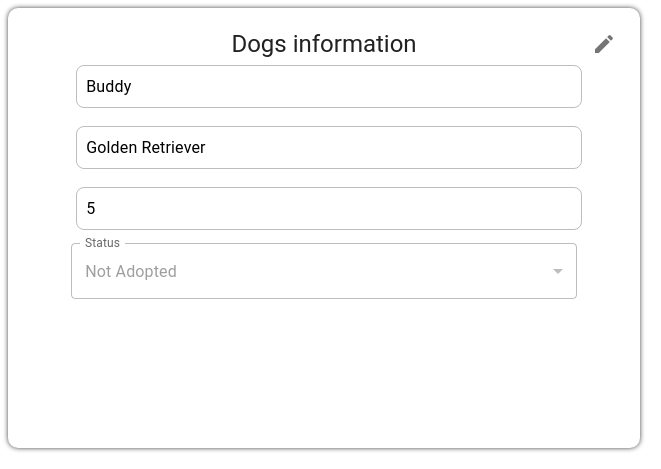
DogInfo.cy.tsx › Cancel Edit
The image size is (661, 469).
Click the button with id "editDogInfo": (604,44) x1=584 y1=24 x2=624 y2=64
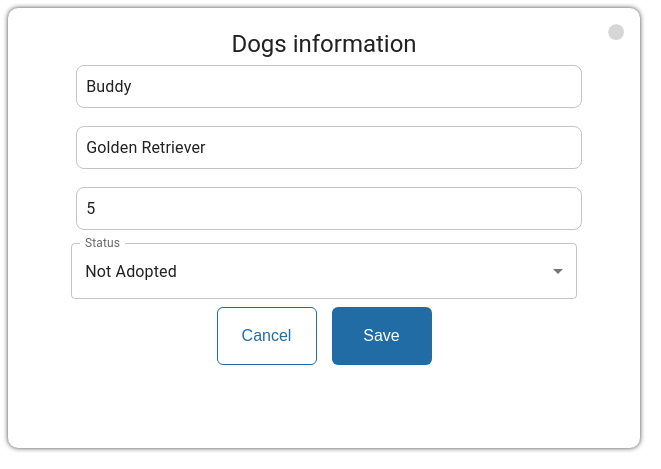
Replace the text in the field with id "DogName" with "Buddy2": (329,87) x1=81 y1=65 x2=577 y2=108
Replace the text in the field with id "Breed" with "Golden Retriever2": (329,148) x1=81 y1=126 x2=577 y2=169
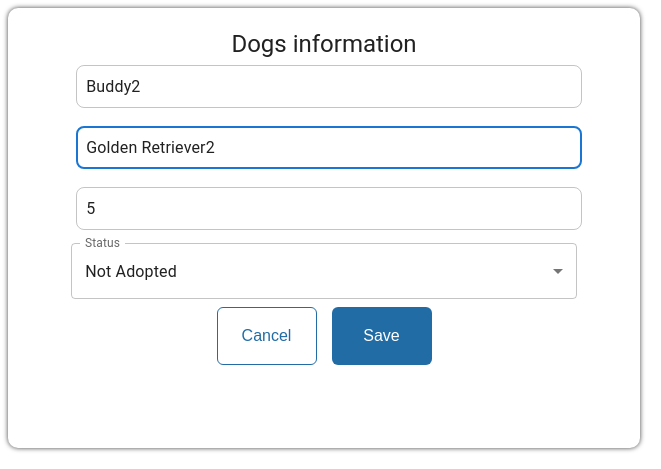
Replace the text in the field with id "Age" with "6": (329,209) x1=81 y1=187 x2=577 y2=230
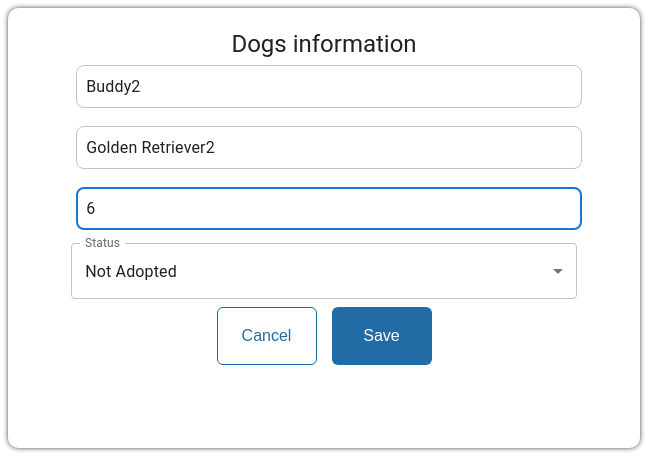
Click the dropdown labelled "Not Adopted": (131,272) x1=85 y1=262 x2=177 y2=281
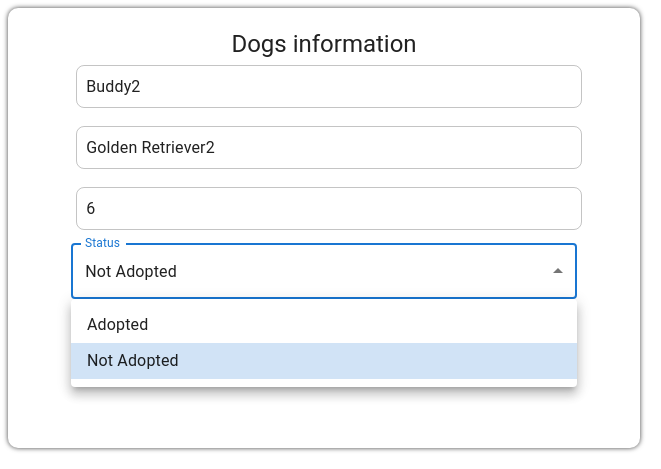
Click the option "Not Adopted": (133,361) x1=71 y1=343 x2=577 y2=379
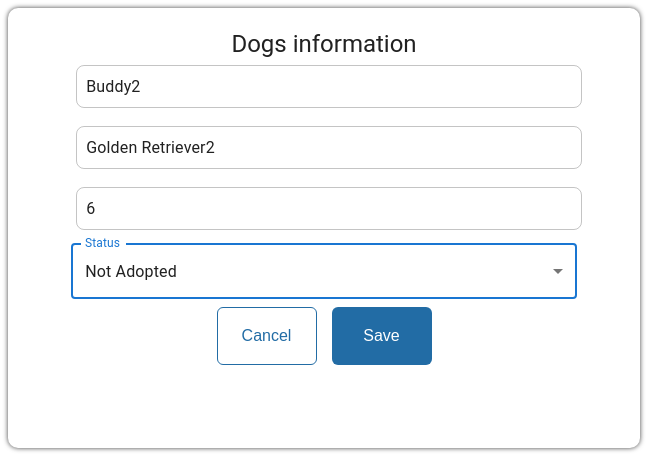
Click the button "Cancel": (267,336) x1=217 y1=307 x2=317 y2=365
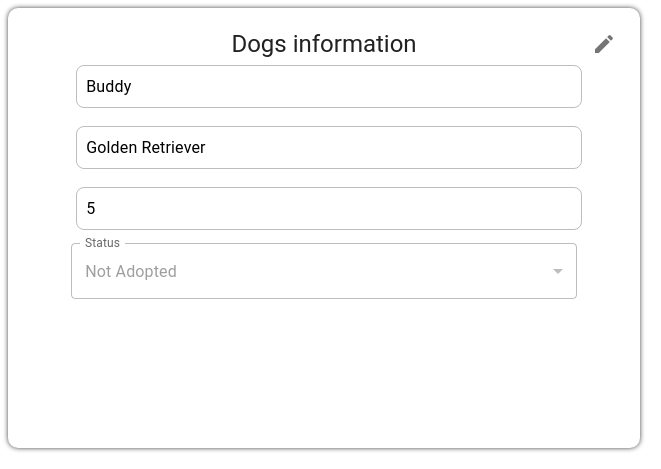
Expected: the field with id "DogName" holds "Buddy", x1=81 y1=65 x2=577 y2=108
Expected: the field with id "Breed" holds "Golden Retriever", x1=81 y1=126 x2=577 y2=169
Expected: the field with id "Age" holds "5", x1=81 y1=187 x2=577 y2=230
